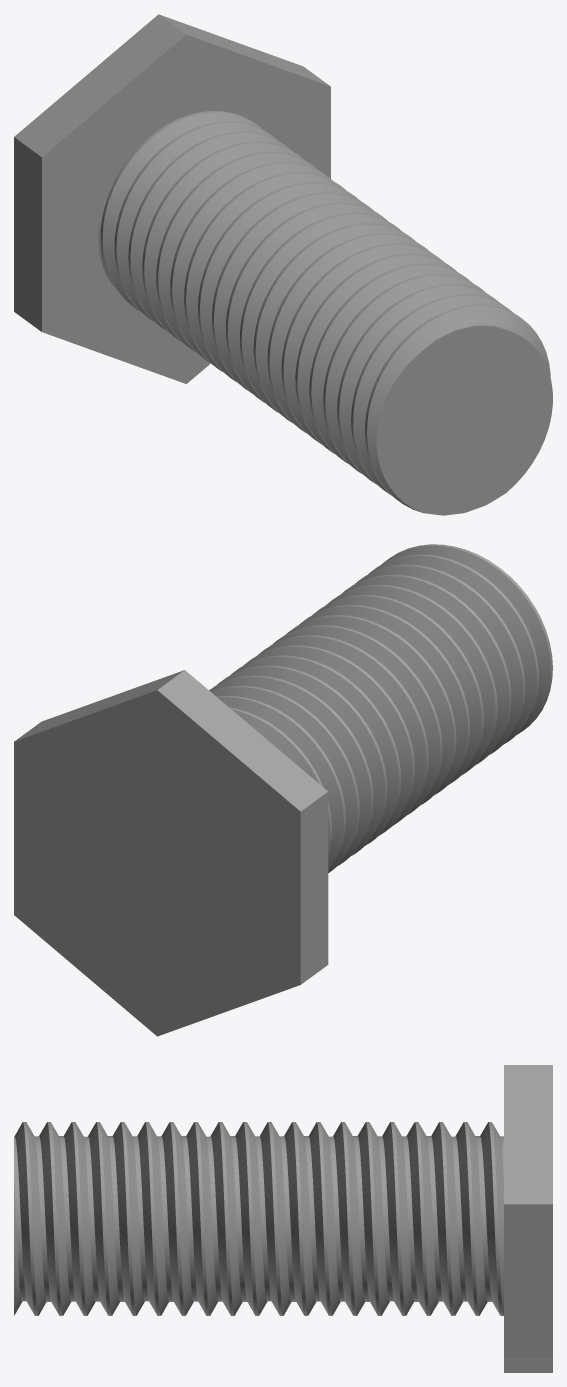
The model's file is vite-test.glb.
3 renders of one model, top to bottom at view 1: azimuth 30°, elevation 25°; view 2: azimuth 150°, elevation 25°; view 3: azimuth 270°, elevation 25°, orthographic. The views are drawn at different scales.
Parts seen in each view (by area): view 1: node_id3; view 2: node_id3; view 3: node_id3.
Boxes of the visible parts, left/top/right/bottom form: node_id3: left=14, top=14, right=552, bottom=515; node_id3: left=14, top=544, right=552, bottom=1036; node_id3: left=14, top=1065, right=552, bottom=1372.
Bounding box in the file's own units: 0.4434 × 0.512 × 0.8129.
Materials: 1 (1 with a texture image).
